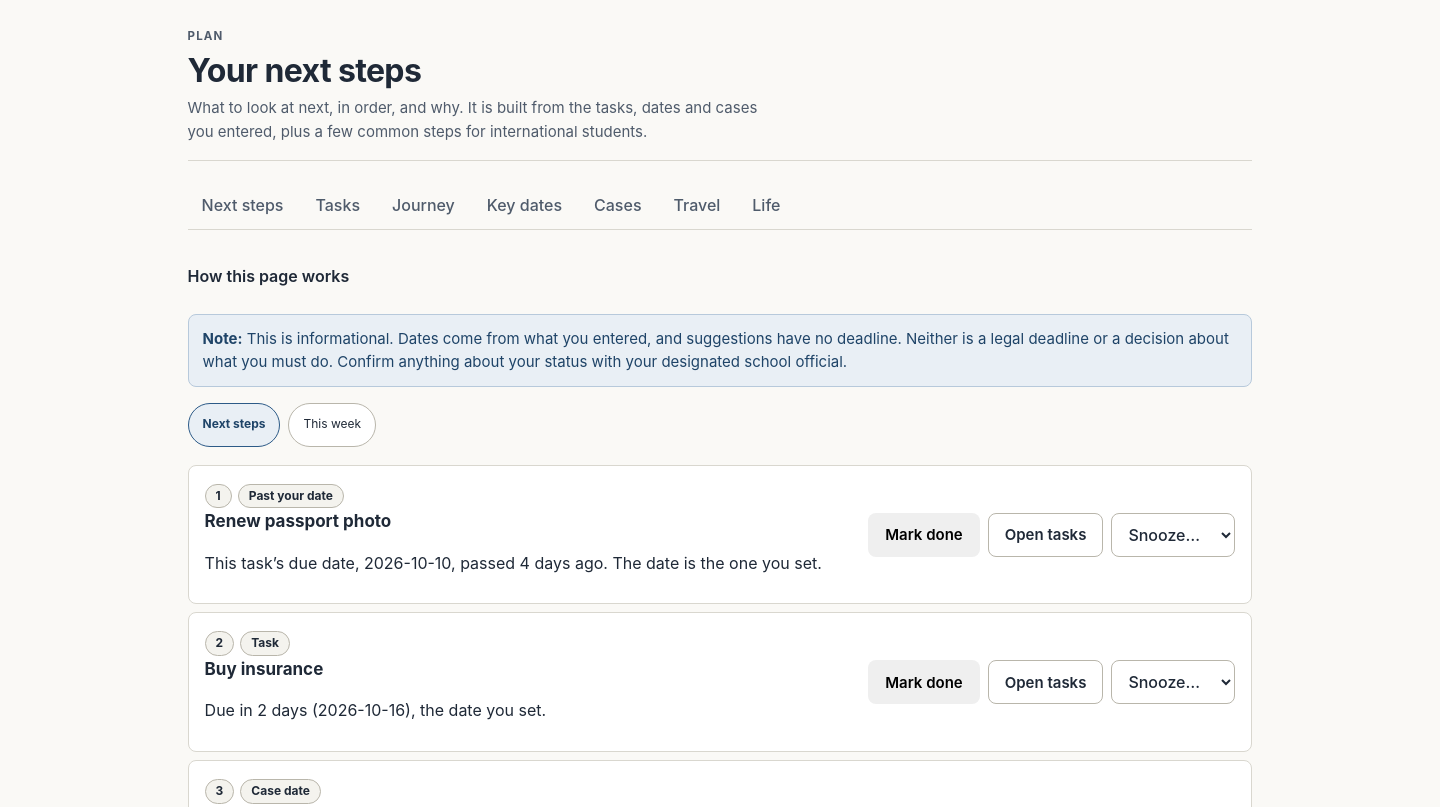
NextStepsPage › shows failures in plain words
Click the button with aria-label "Mark done: Renew passport photo".
click(924, 535)  # box [868,513,980,557]
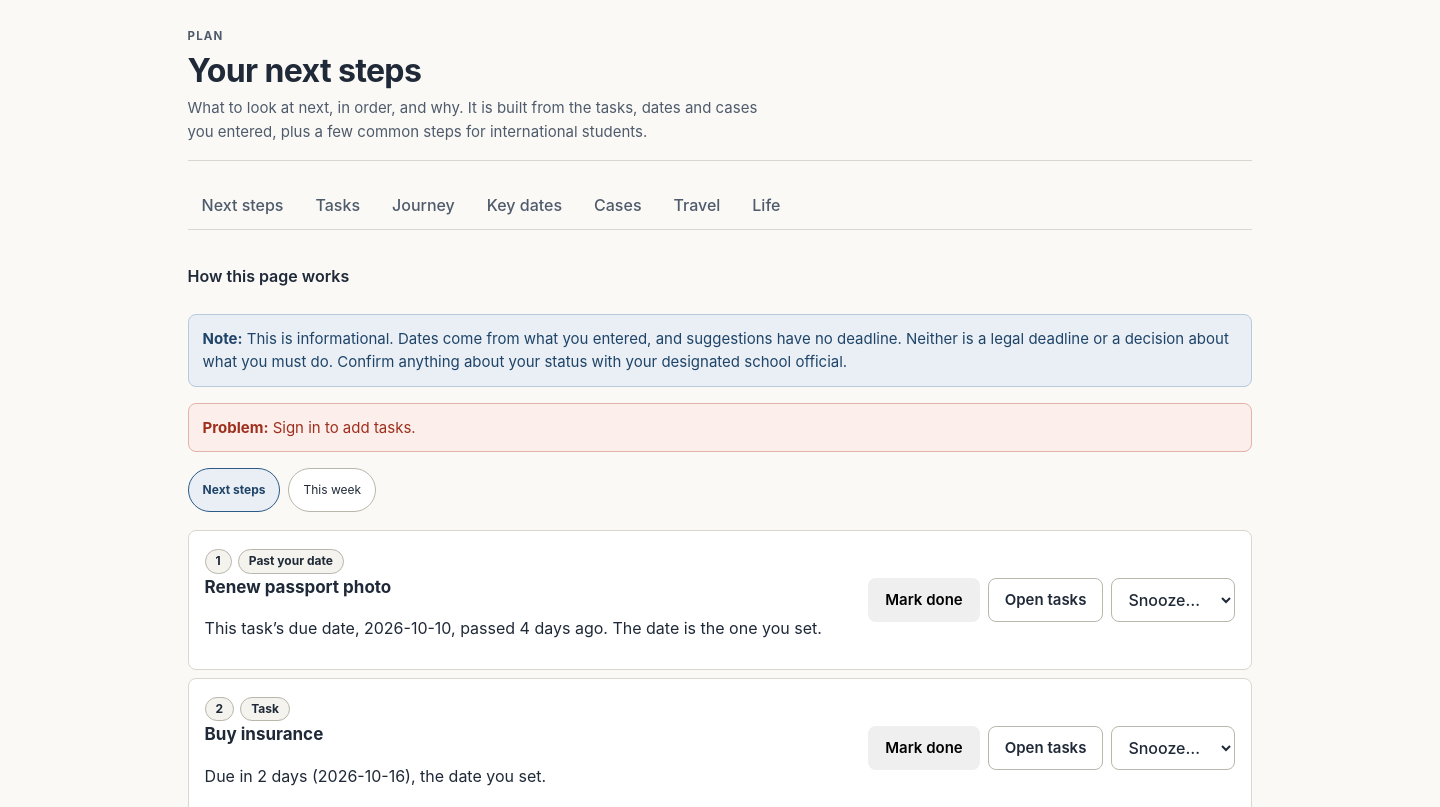
Check: the message "Problem: Sign in to add tasks." is shown, box [188,403,1252,452]
